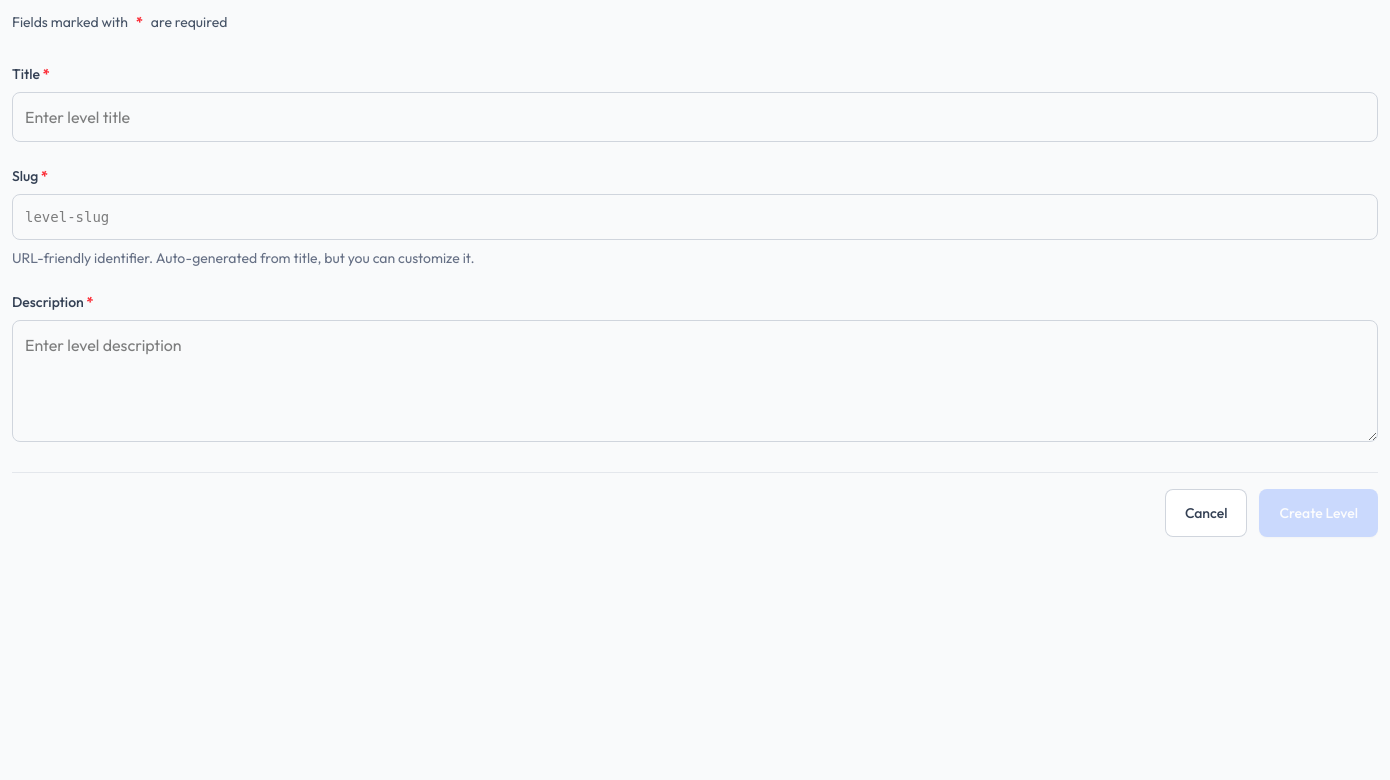
Scenario: LevelForm Component › shows validation errors when form submission is attempted with invalid data
Note: Fill in form with valid data first
Type "Test Title" into the field labelled "Title *" at (695, 117), box [12,92,1378,142]
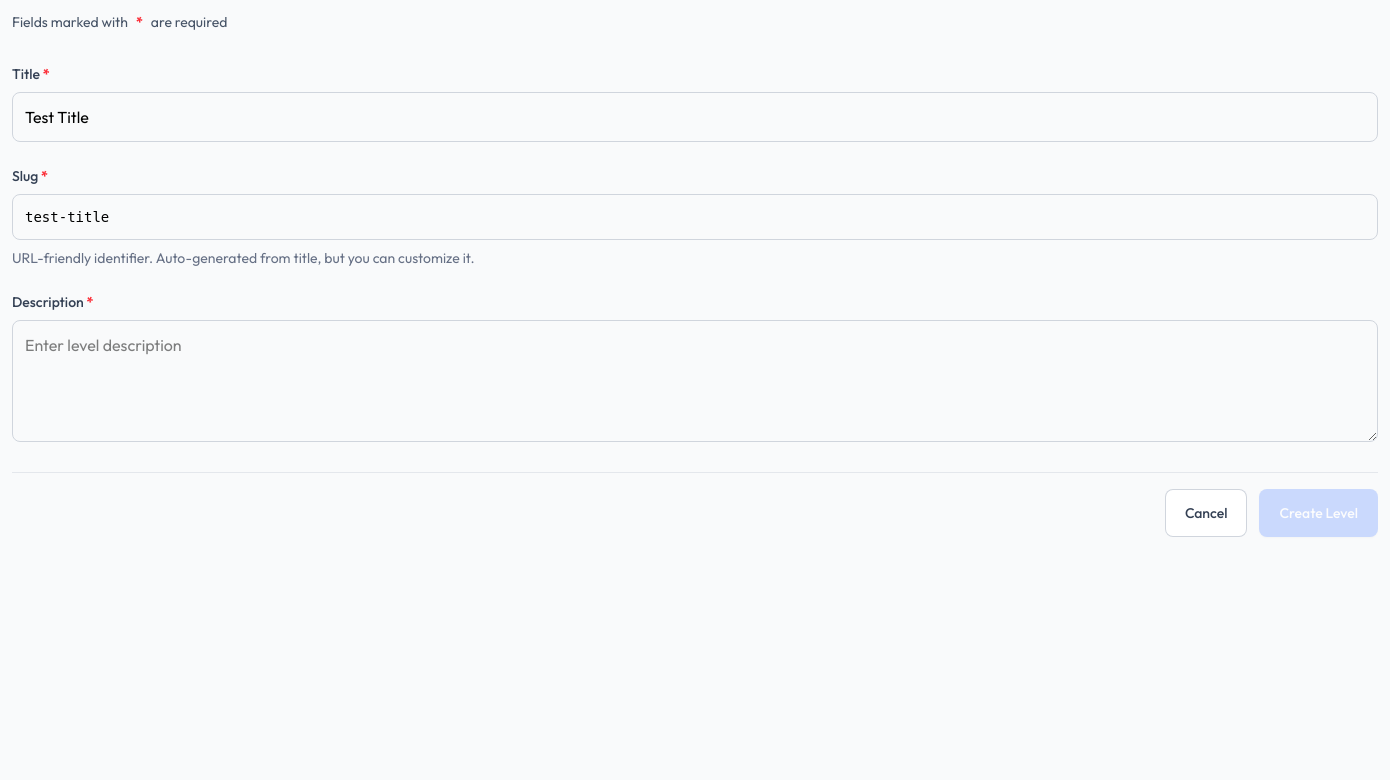
Type "Test description" into the text box labelled "Description *" at (695, 381), box [12,320,1378,442]
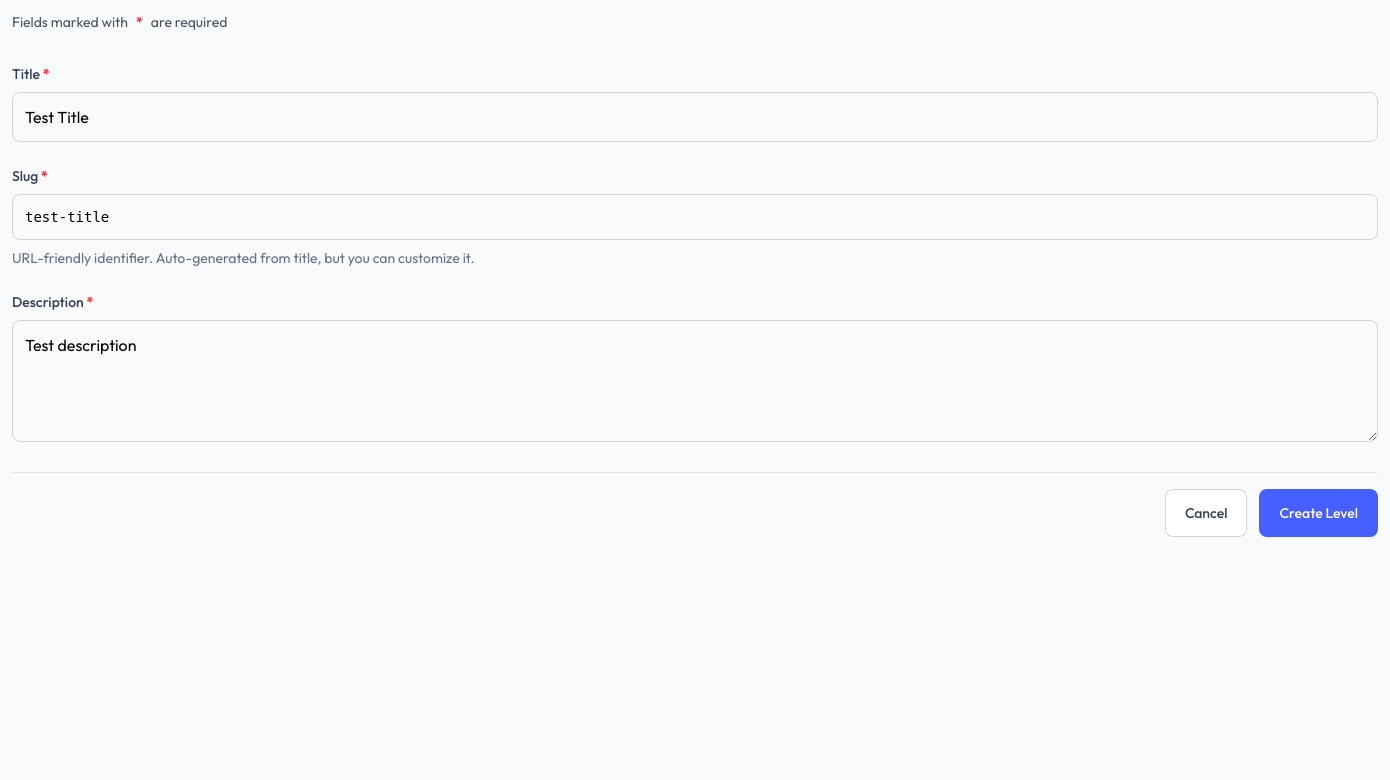
Expected: the button "Create Level" is enabled
Click the button "Create Level" at (1319, 513), box [1260,489,1378,537]
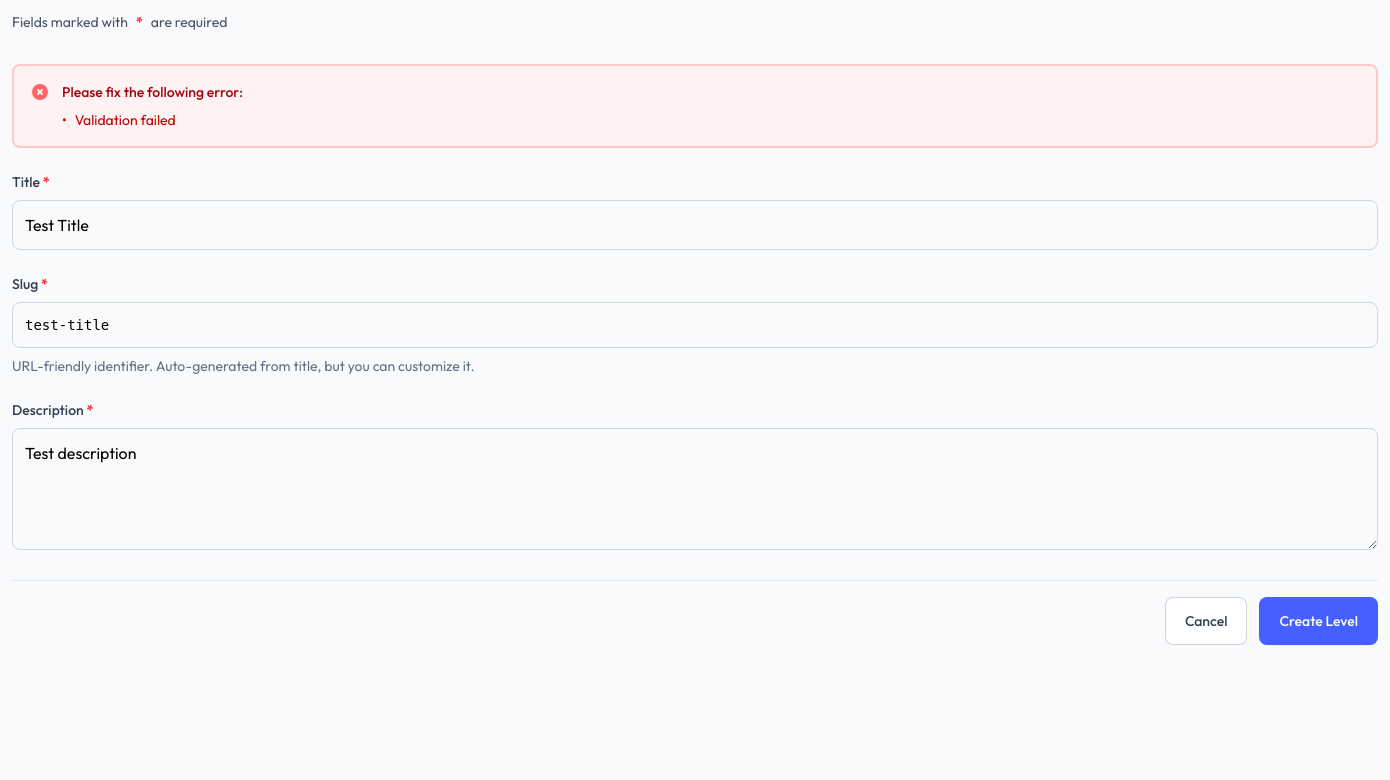
Expected: the text "Validation failed" is shown, [75,110,176,130]
